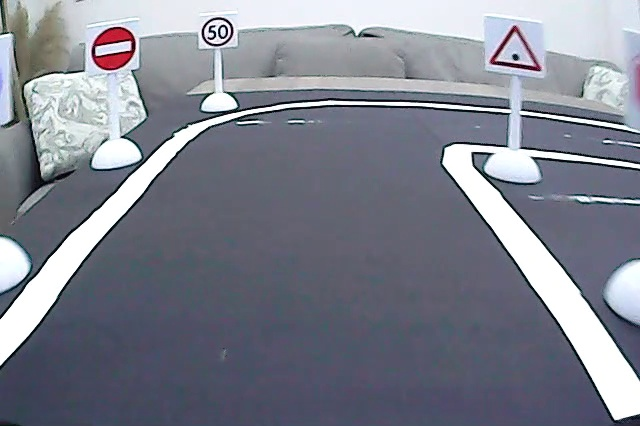do not enter: (89, 22, 137, 74)
green light: (486, 21, 545, 76)
speed limit 50: (198, 16, 236, 49)
